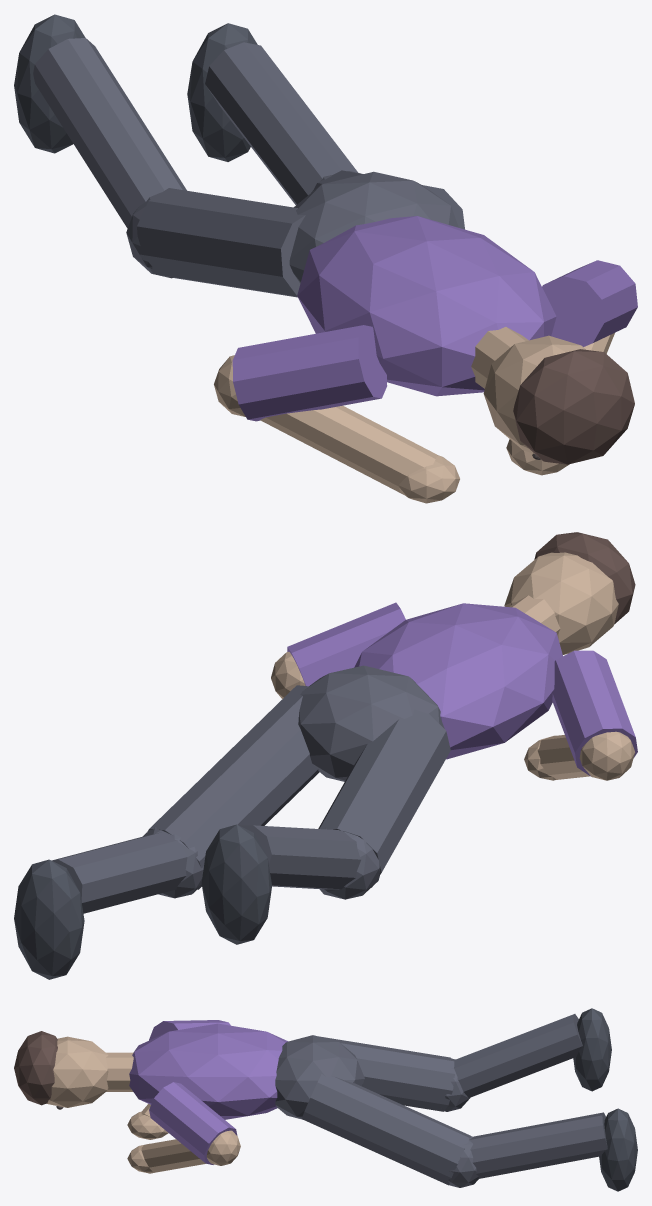
The picture shows the model from 3 angles, top to bottom: view 1: azimuth 30°, elevation 25°; view 2: azimuth 150°, elevation 25°; view 3: azimuth 270°, elevation 25°; orthographic projection. The views are drawn at different scales.
Parts seen in each view (by area): view 1: world; view 2: world; view 3: world.
Part boxes in pixels (x1,y1,x2,y2): world: (14, 14, 637, 503); world: (14, 532, 637, 979); world: (14, 1008, 637, 1191).
Bounding box in the file's own units: 0.93 × 0.4628 × 2.04.
